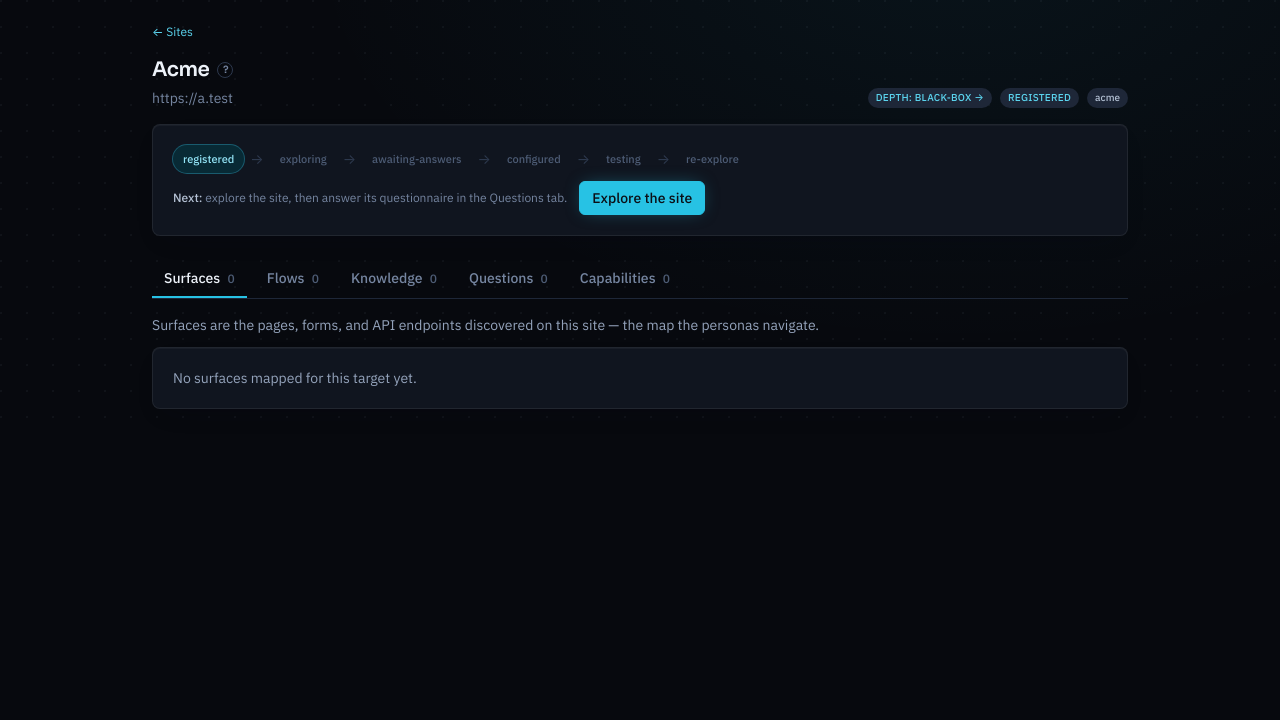
Test: <SiteTarget> explorer › runs the explorer and reloads the model
Click the button with test id "explore-btn" at {"x": 642, "y": 198}, box top-left (579, 181), bottom-right (705, 215)
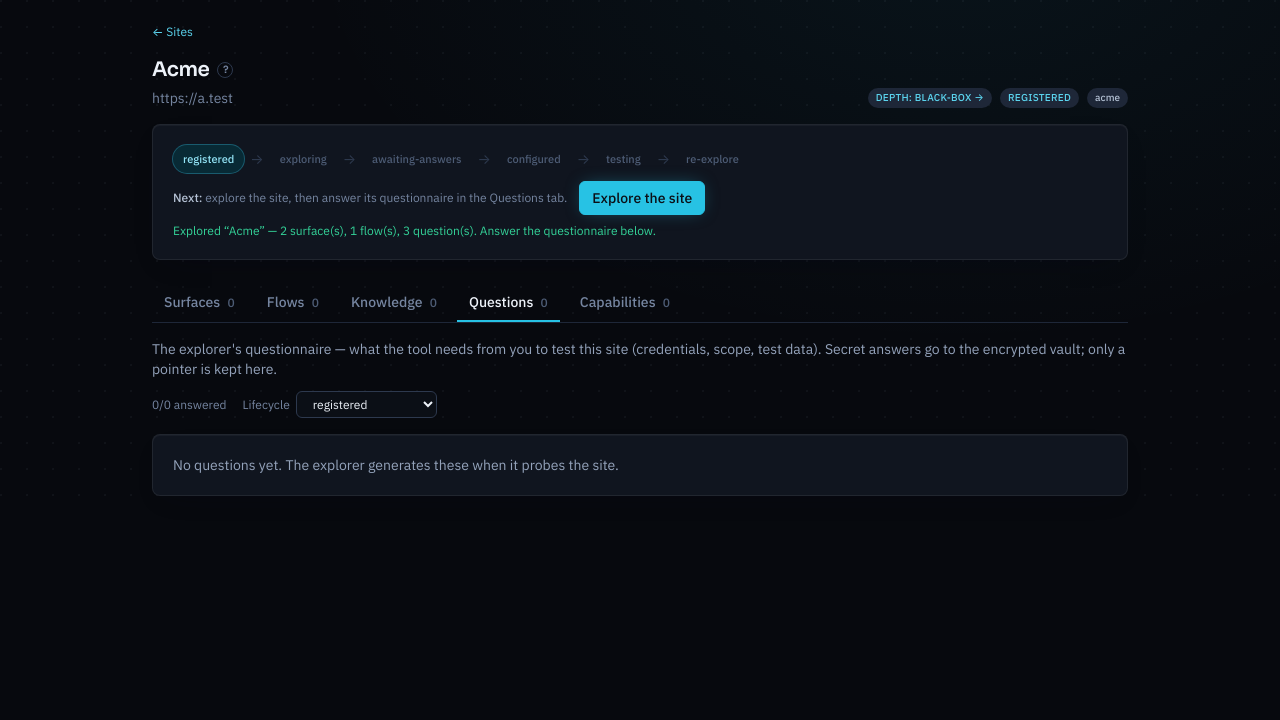
Expected: the text with test id "explore-summary" is shown, top-left (173, 223), bottom-right (656, 238)
